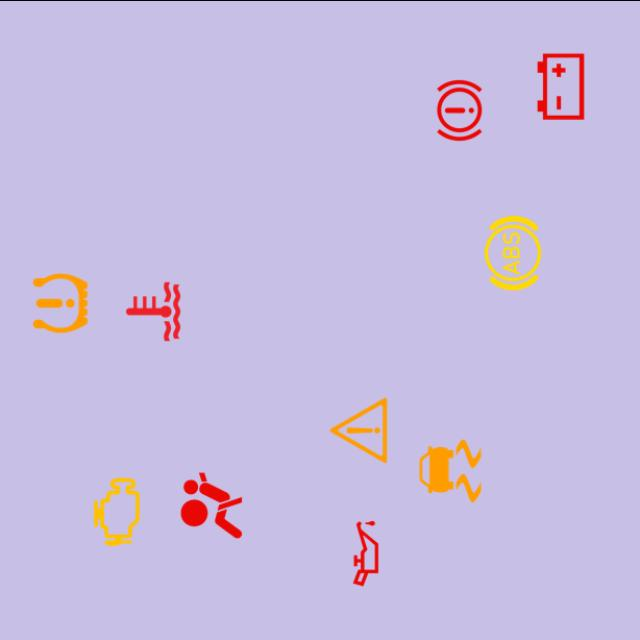Anti Lock Braking System: (472, 211, 554, 293)
Braking System Issue: (418, 68, 501, 150)
Charging System Issue: (520, 45, 602, 126)
Check Engine: (76, 469, 158, 552)
Electronic Stability Problem -ESP-: (409, 429, 492, 511)
Engine Overheating Warning Light: (112, 270, 194, 352)
Low Engine Oil Warning Light: (325, 512, 407, 594)
Low Tire Pressure Warning Light: (20, 262, 101, 344)
Master warning light: (318, 388, 400, 471)
SRS-Airbag: (170, 464, 252, 546)
